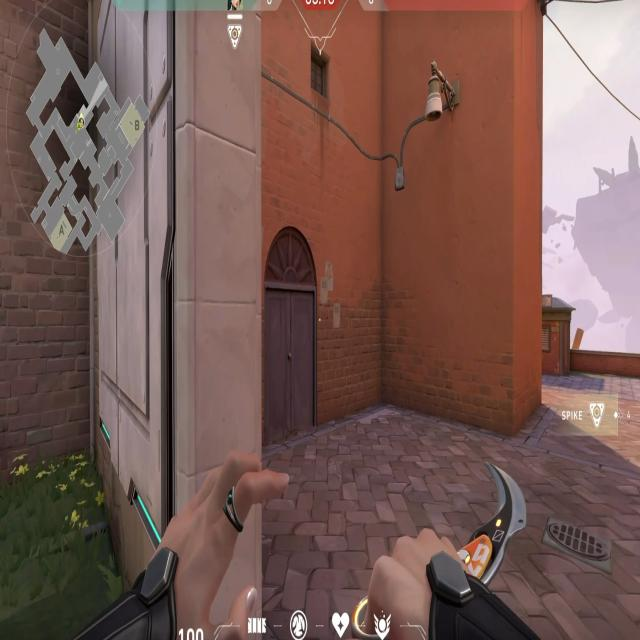Mid_Wall: (85, 1, 254, 633)
